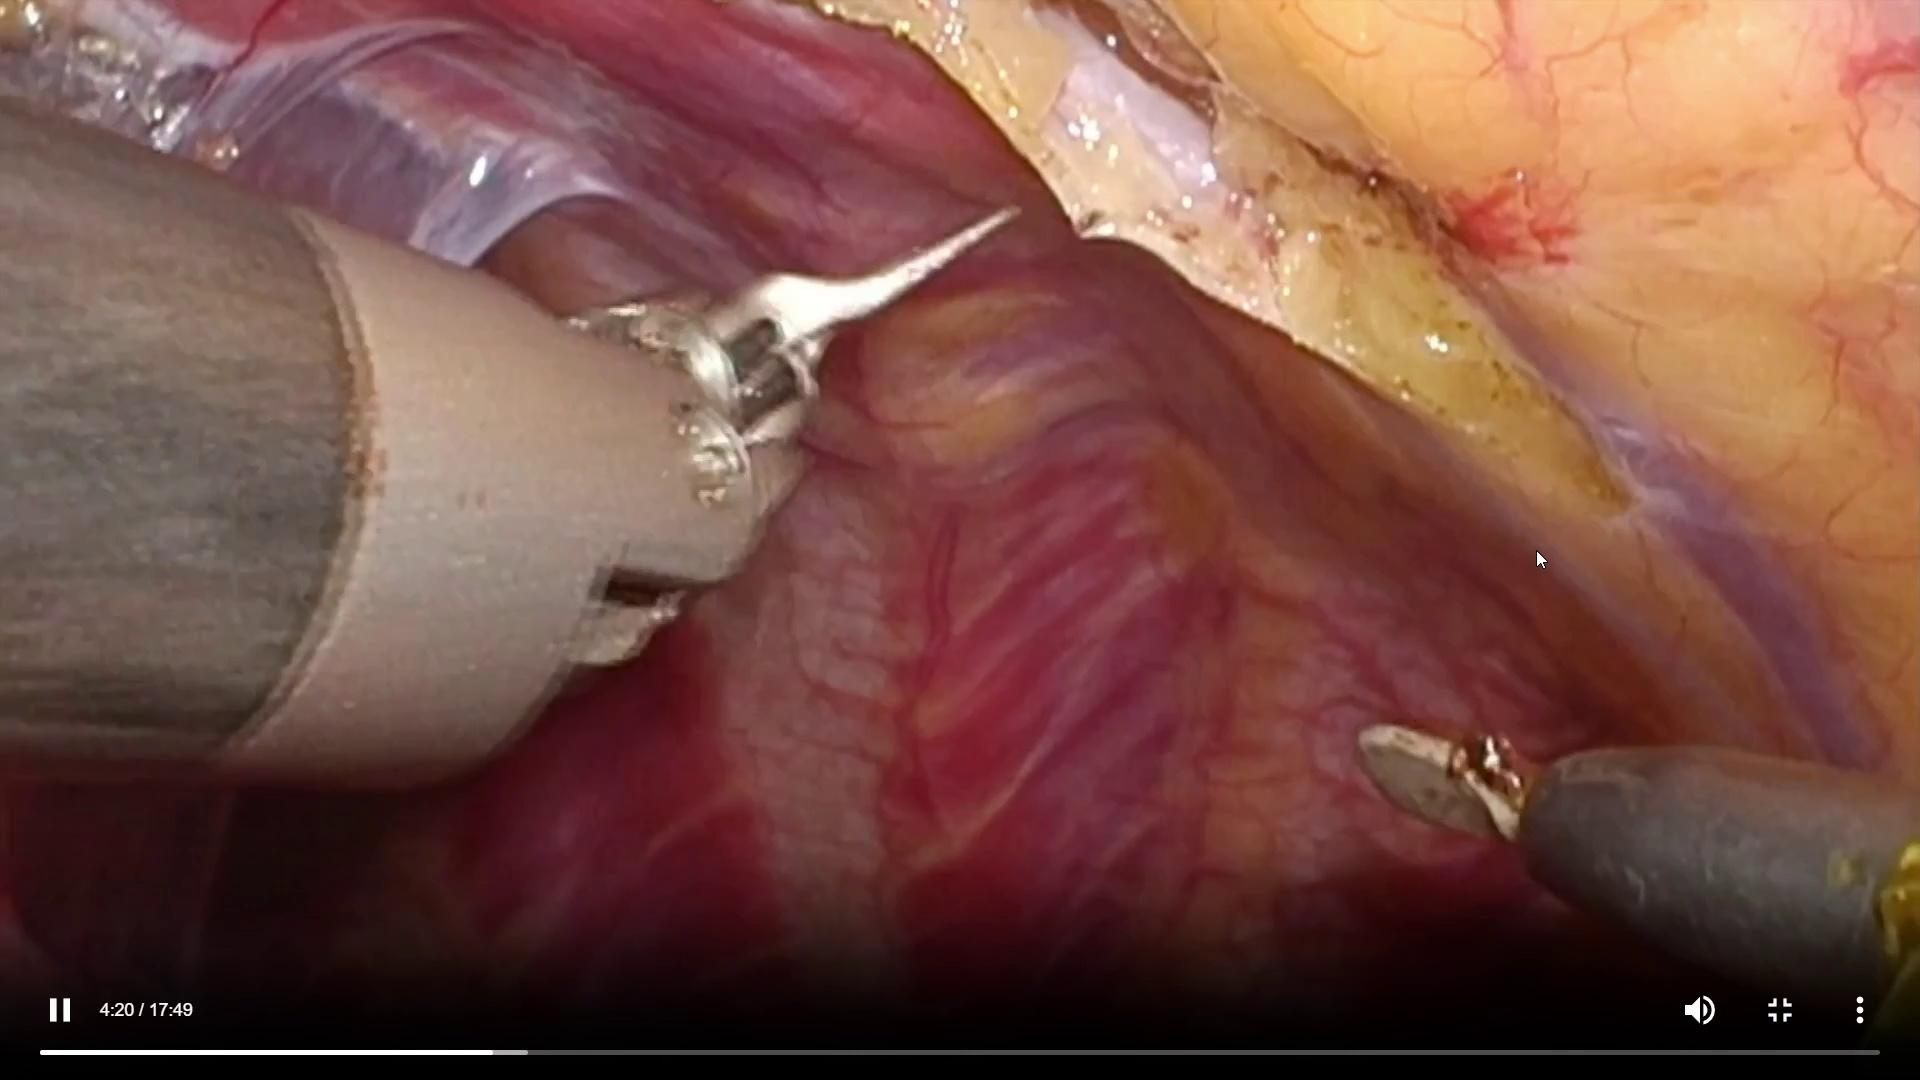Cautery_Spatula: (1362, 720, 1915, 1007), (1354, 724, 1560, 847)
Debakey: (580, 138, 1033, 517), (584, 199, 1033, 537)
